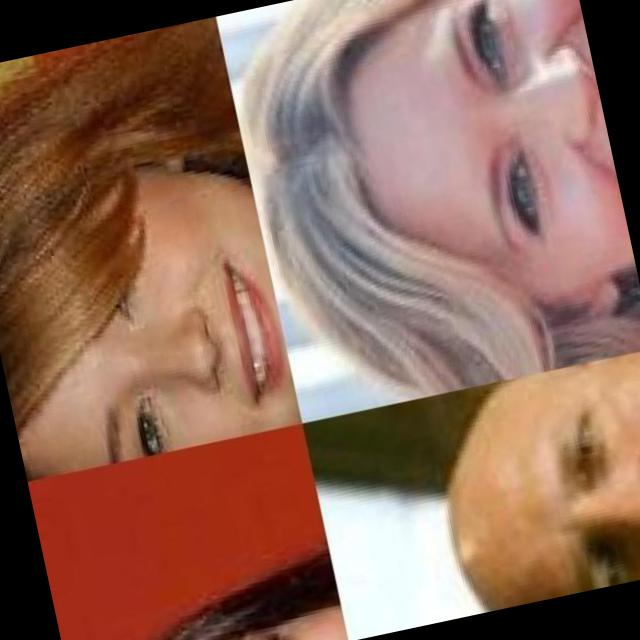bareface: (0, 146, 302, 459)
